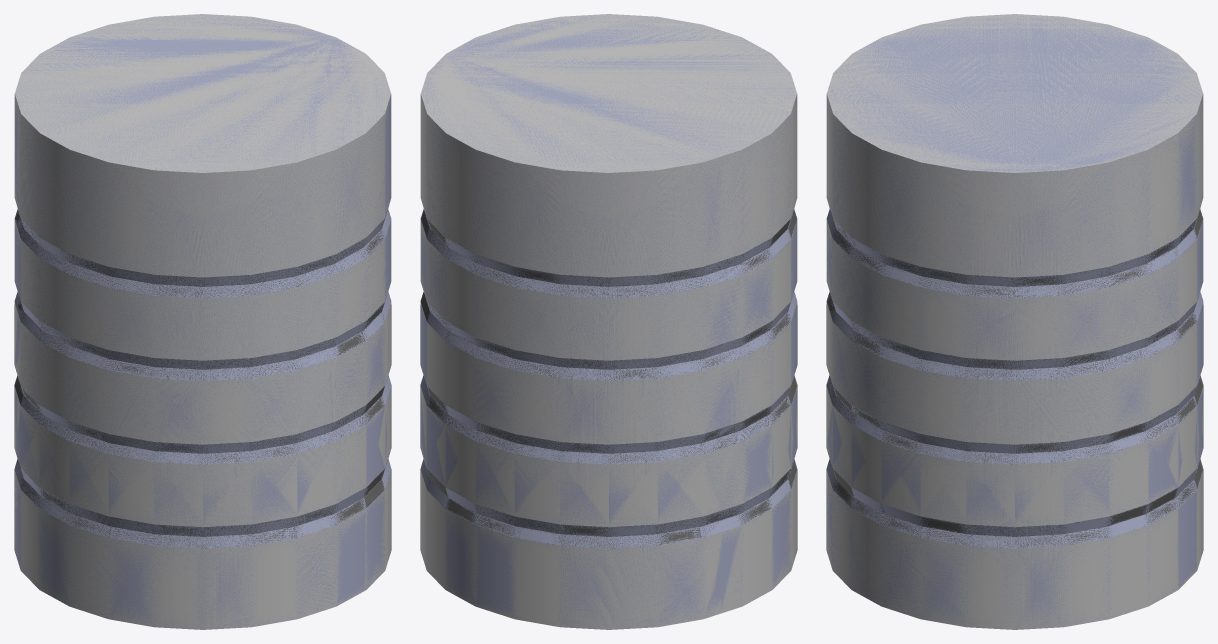
File: kaleng.fbx
The picture shows the model from 3 angles, left to right: view 1: azimuth 30°, elevation 25°; view 2: azimuth 150°, elevation 25°; view 3: azimuth 270°, elevation 25°; orthographic projection.
Visible parts, largest first — view 1: Component_1_1; view 2: Component_1_1; view 3: Component_1_1.
Boxes of the visible parts, x1=… form: Component_1_1: x1=14, y1=14, x2=391, y2=629; Component_1_1: x1=420, y1=14, x2=797, y2=629; Component_1_1: x1=826, y1=14, x2=1203, y2=629.
Size of the model in its own units: 7.31 by 9.76 by 7.31.
